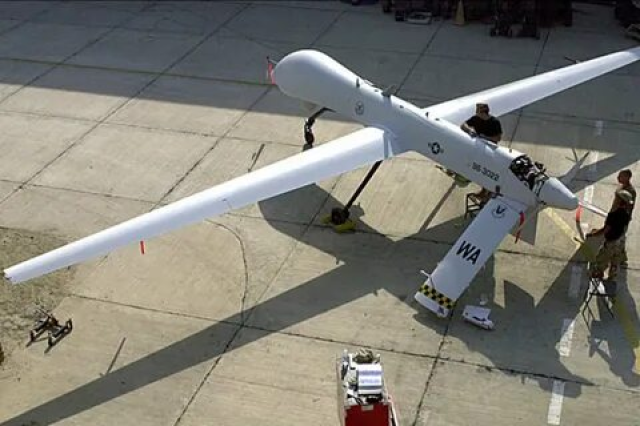military drone: (2, 45, 640, 319)
